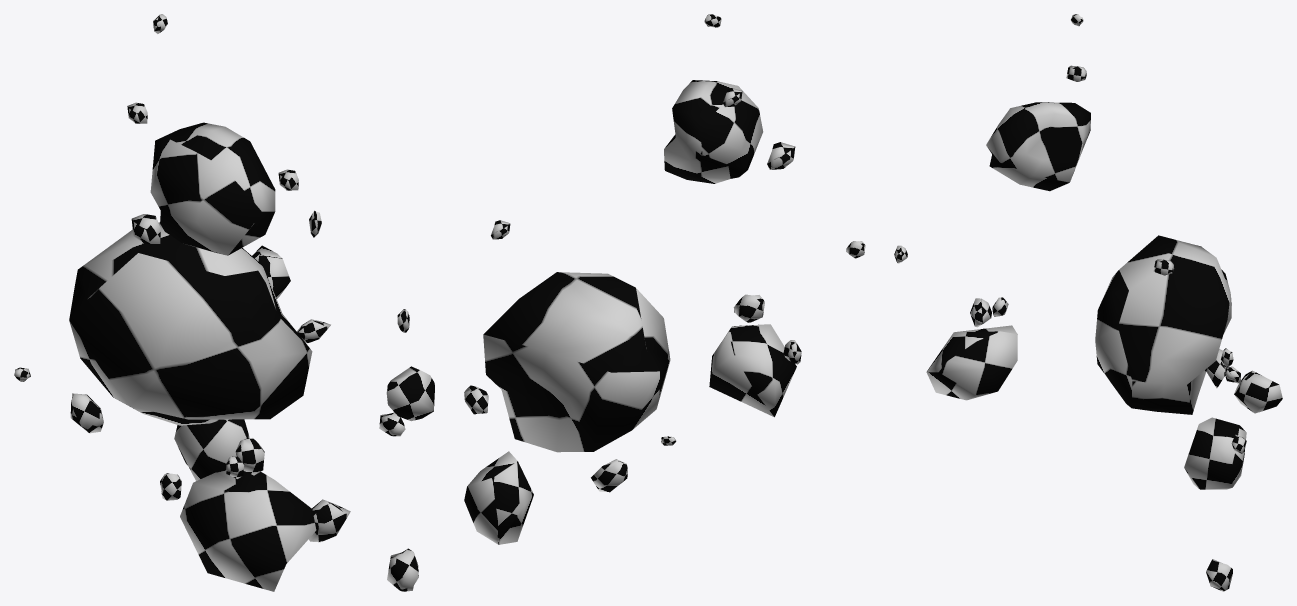
File: zone_asteroid_low2.obj
3 views of the same model, side by side, from view 1: azimuth 30°, elevation 25°; view 2: azimuth 150°, elevation 25°; view 3: azimuth 270°, elevation 25° (orthographic). The views are drawn at different scales.
Parts seen in each view (by area): view 1: low_asteroidb; view 2: low_asteroidb; view 3: low_asteroidb.
Part boxes in pixels (x1,y1,x2,y2): low_asteroidb: (14,14,350,591); low_asteroidb: (379,14,865,591); low_asteroidb: (894,14,1282,591).
Bounding box in the file's own units: 206 × 380 × 276.
Materials: 1 (1 with a texture image).
